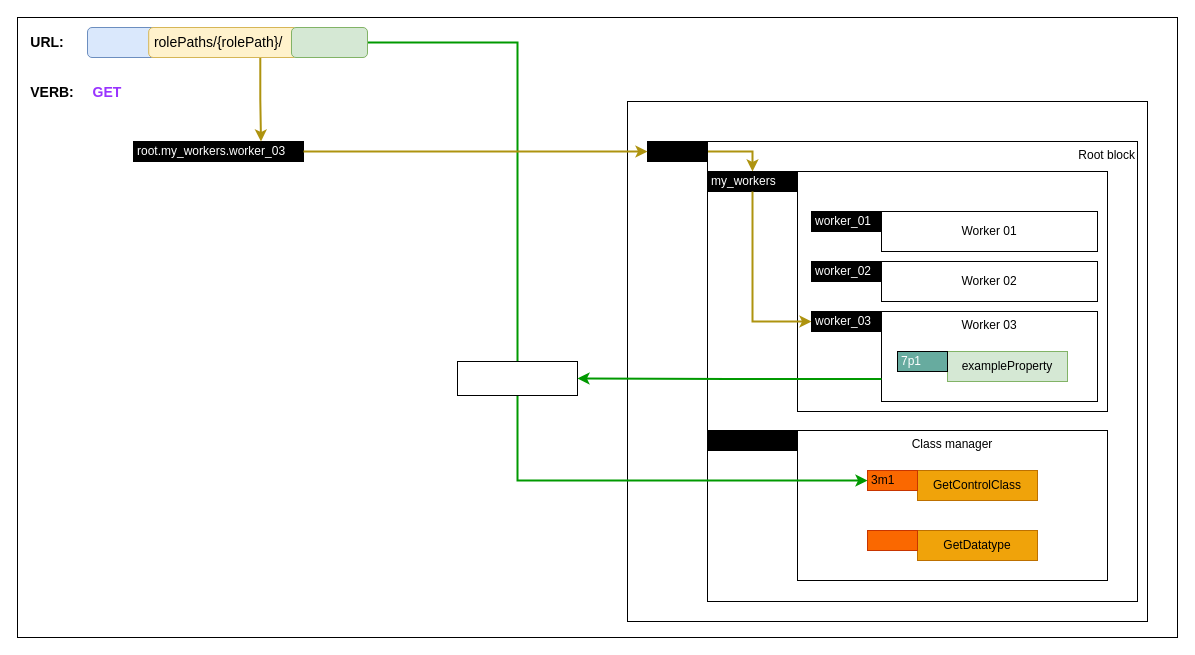
Image size: 1195x655. Some labels were removed from this diagram. Here are the shapes that lost their labels. From the top down, the box of each, then its label:
(86, 26, 178, 58): baseUrl/
(290, 26, 368, 58): descriptor
(646, 140, 708, 162): root
(796, 170, 1108, 412): Workers block
(456, 360, 578, 396): Class Id
(626, 100, 1148, 622): Device
(706, 430, 798, 450): ClassManager
(866, 530, 918, 550): 3m2
